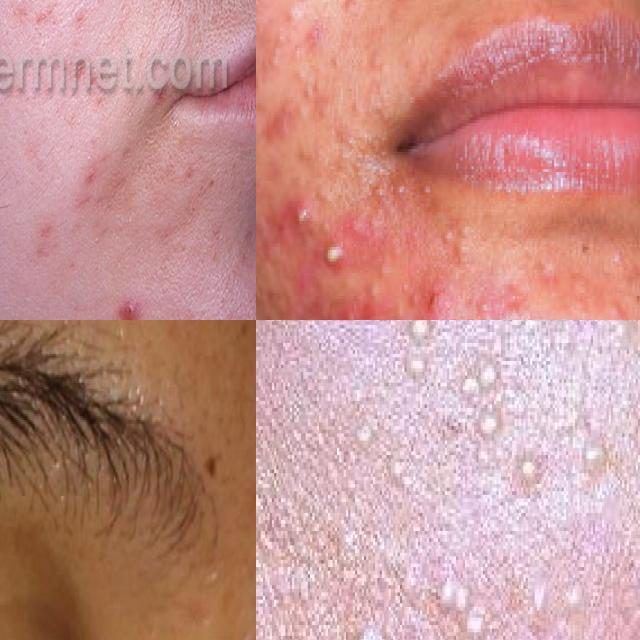comedone: (199, 440, 227, 488)
milium: (332, 372, 420, 506), (386, 552, 496, 640), (519, 531, 605, 633), (563, 386, 640, 484), (452, 350, 508, 450), (395, 320, 439, 392), (514, 437, 544, 496)
